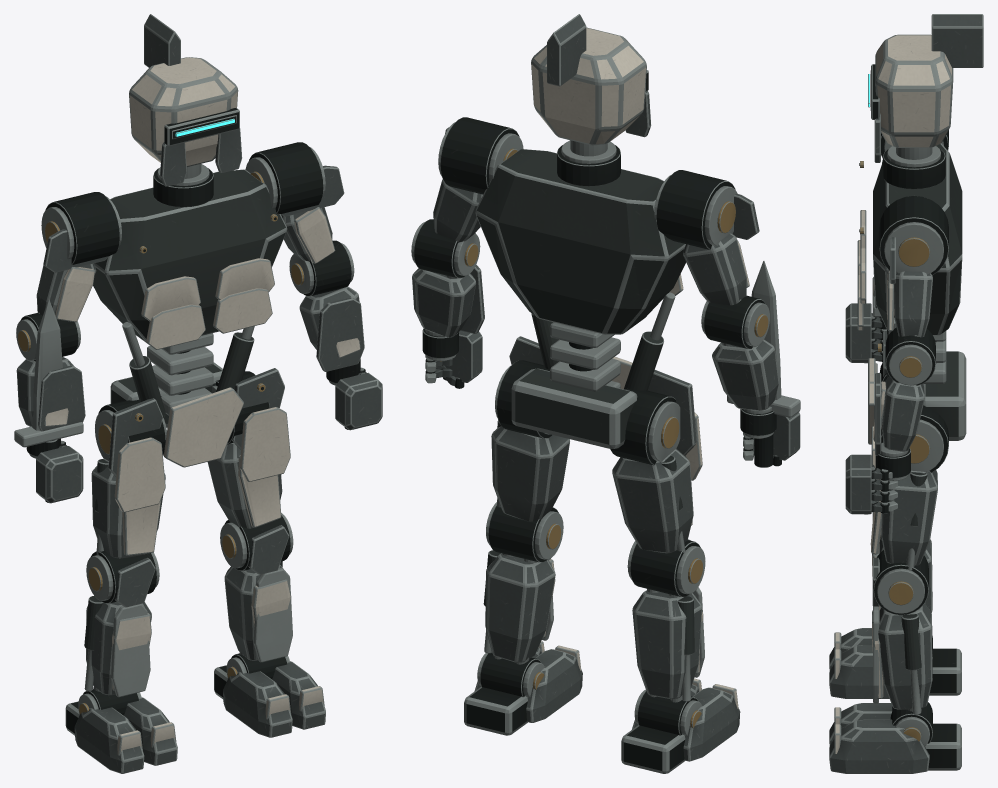
File: speed-t1-legion.glb
The picture shows the model from 3 angles, left to right: view 1: azimuth 30°, elevation 25°; view 2: azimuth 150°, elevation 25°; view 3: azimuth 270°, elevation 25°; orthographic projection. The views are drawn at different scales.
Visible parts, largest first — view 1: chest__metal, head__clay, pelvis__metal, pelvis__clay, chest__clay, hipR__clay, hipL__clay, ankleR__clay, ankleL__clay, kneeR__metal, kneeL__clay, kneeR__clay (+15 smaller); view 2: chest__metal, pelvis__metal, head__clay, hipR__clay, kneeL__clay, hipL__clay, kneeR__clay, shoulderR__metal, kneeR__metal, ankleL__metal, ankleR__metal, shoulderL__metal (+15 smaller); view 3: head__clay, chest__metal, ankleL__clay, pelvis__metal, shoulderL__metal, kneeL__metal, kneeL__clay, hipL__clay, elbowL__clay, shoulderL__clay, ankleR__clay, ankleL__metal (+11 smaller).
Part boxes in pixels (x1,y1,x2,y2): chest__metal: [93, 164, 287, 342]; head__clay: [129, 14, 242, 186]; pelvis__metal: [95, 321, 269, 460]; pelvis__clay: [108, 368, 284, 476]; chest__clay: [141, 258, 274, 349]; hipR__clay: [91, 437, 165, 558]; hipL__clay: [207, 407, 290, 528]; ankleR__clay: [74, 697, 177, 773]; ankleL__clay: [223, 661, 325, 737]; kneeR__metal: [84, 551, 159, 697]; kneeL__clay: [224, 525, 291, 660]; kneeR__clay: [86, 557, 155, 695]; chest__metal: [475, 140, 686, 334]; pelvis__metal: [495, 292, 680, 465]; head__clay: [531, 14, 651, 145]; hipR__clay: [612, 412, 702, 553]; kneeL__clay: [485, 553, 555, 662]; hipL__clay: [491, 426, 569, 521]; kneeR__clay: [632, 539, 703, 699]; shoulderR__metal: [654, 170, 741, 301]; kneeR__metal: [627, 540, 705, 702]; ankleL__metal: [464, 653, 544, 735]; ankleR__metal: [621, 689, 701, 773]; shoulderL__metal: [438, 117, 523, 194]; head__clay: [874, 14, 983, 162]; chest__metal: [859, 143, 962, 335]; ankleL__clay: [829, 703, 929, 773]; pelvis__metal: [877, 318, 966, 472]; shoulderL__metal: [879, 196, 948, 336]; kneeL__metal: [873, 550, 928, 714]; kneeL__clay: [872, 557, 932, 709]; hipL__clay: [870, 426, 937, 565]; elbowL__clay: [873, 373, 924, 455]; shoulderL__clay: [887, 237, 932, 337]; ankleR__clay: [829, 628, 889, 698]; ankleL__metal: [890, 702, 961, 770].
Bounding box in the file's own units: 2.4 × 4.51 × 0.8889.
Materials: 11 (10 with a texture image).
